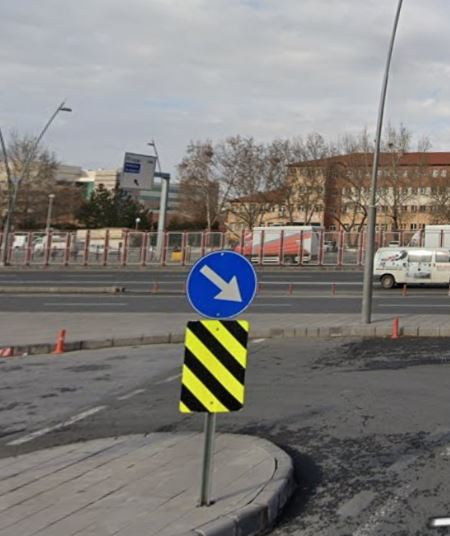Sagdan Git: (186, 250, 255, 323)
